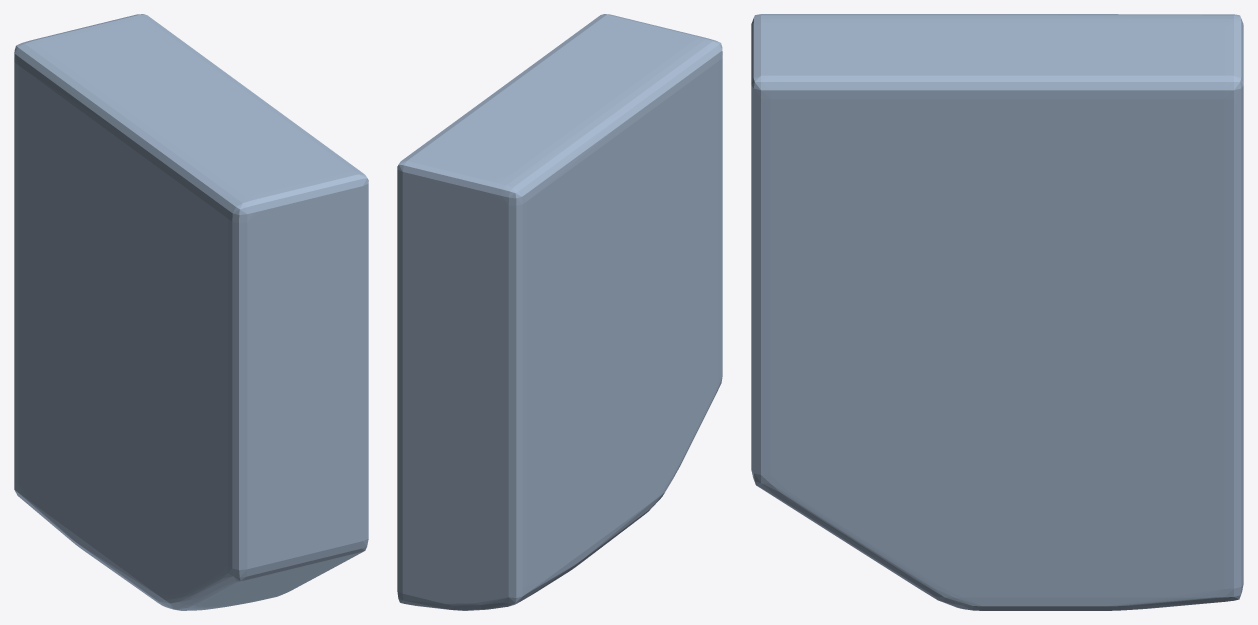
The model's file is left_f_proximal_part_6.obj.
The picture shows the model from 3 angles, left to right: view 1: azimuth 30°, elevation 25°; view 2: azimuth 150°, elevation 25°; view 3: azimuth 270°, elevation 25°; orthographic projection. The views are drawn at different scales.
Size of the model in its own units: 5.33 by 18.3 by 15.31.
